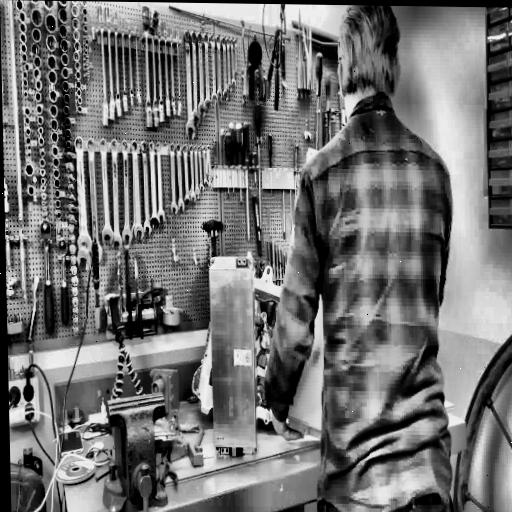battery_module: (210, 267, 256, 450)
